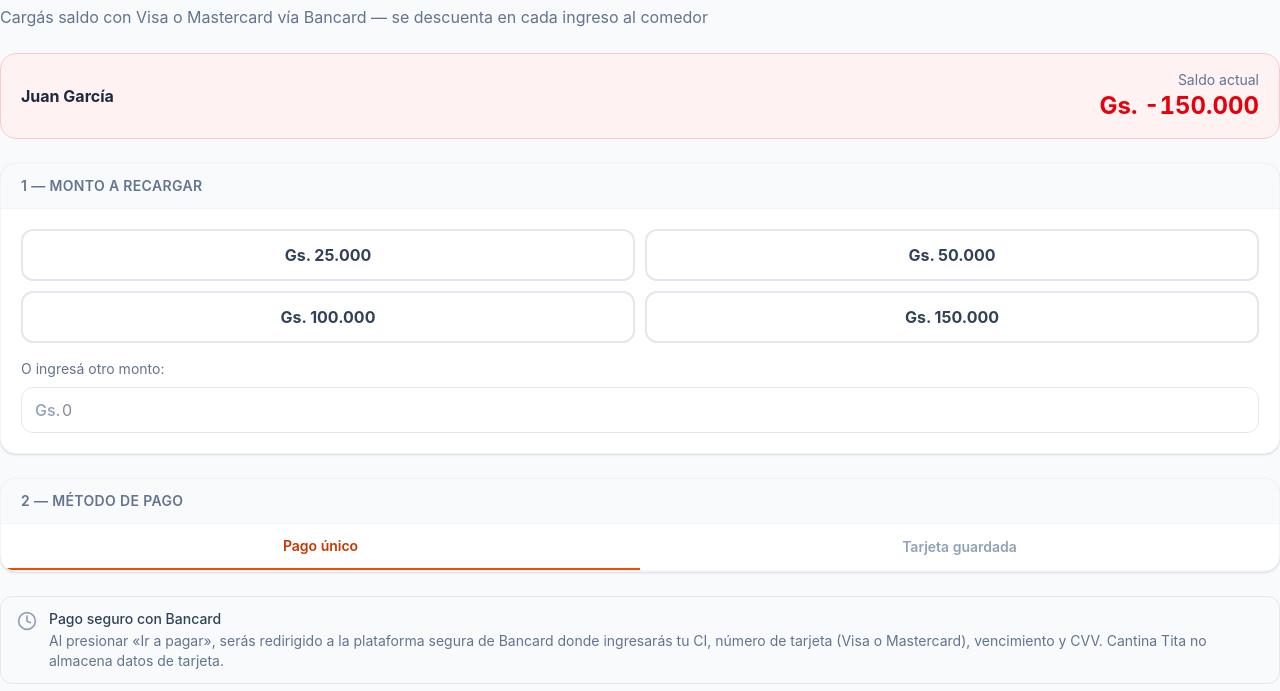
Test case: PagarAlmuerzo — tarjeta guardada › botón "Ir a pagar" queda deshabilitado sin tarjeta seleccionada
Expected: the text "Juan García" is shown, [21,84,114,108]
Click the button "Gs. 50.000".
click(952, 255)  # box [645,229,1259,281]
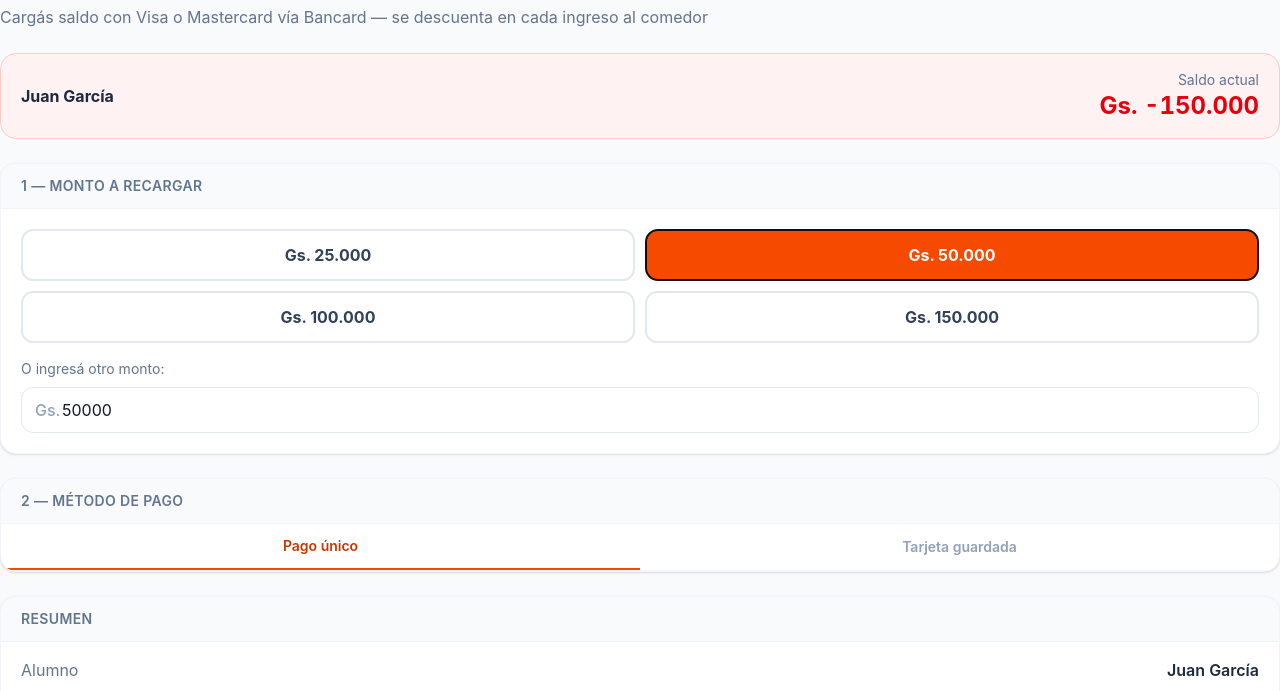
Click the button "Tarjeta guardada".
click(960, 547)  # box [640,524,1279,570]
(page scrolled)
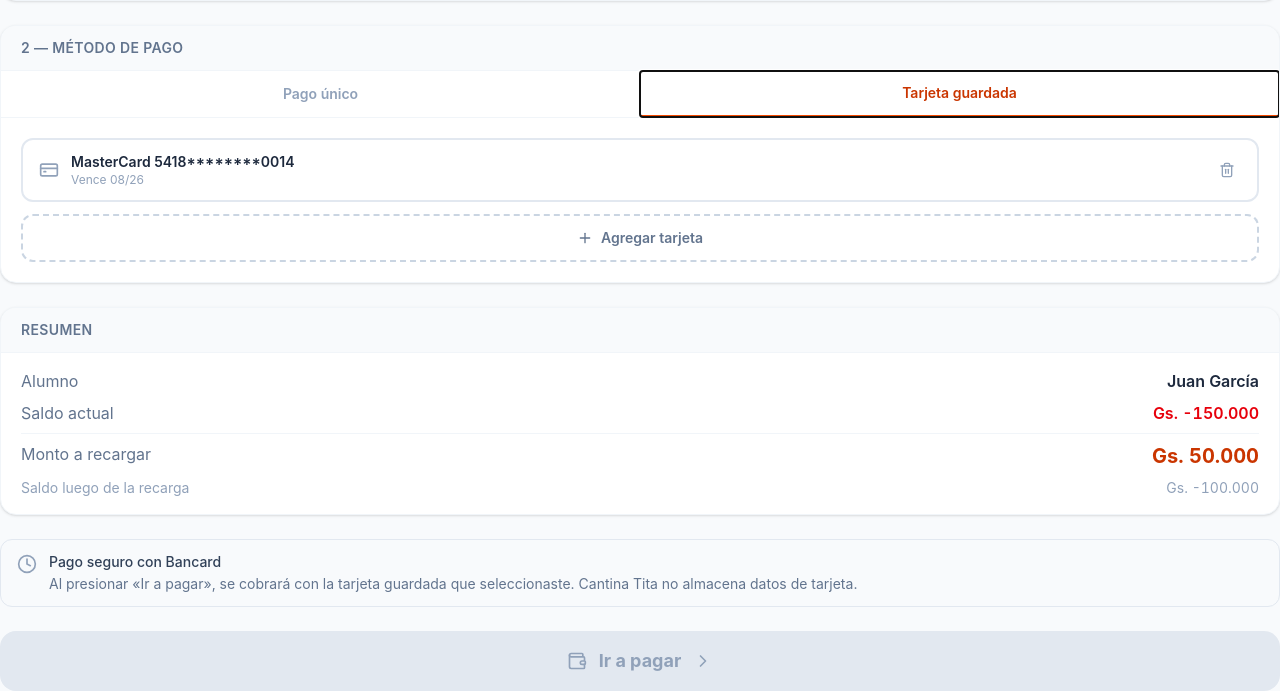
Expected: the text "MasterCard 5418********0014" is shown, [71,152,295,172]
Expected: the button "Ir a pagar" is disabled, [0,631,1279,690]
